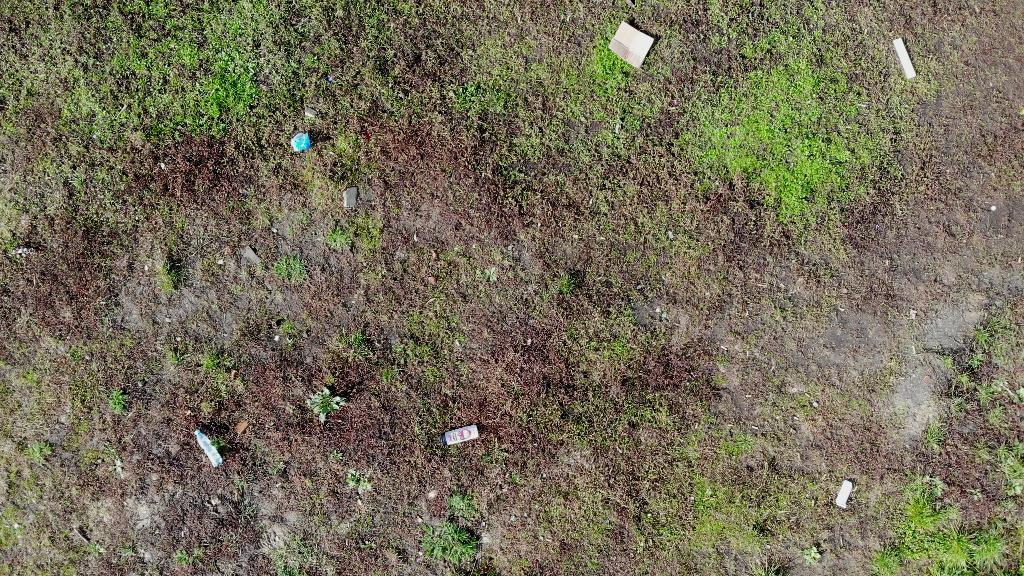garbage: (604, 18, 656, 72), (606, 19, 656, 69), (190, 424, 229, 470), (439, 419, 485, 449), (194, 429, 223, 469), (891, 37, 917, 79), (438, 422, 480, 447), (828, 479, 860, 509), (286, 128, 313, 157), (289, 131, 313, 155), (834, 479, 853, 509), (990, 203, 998, 211)
